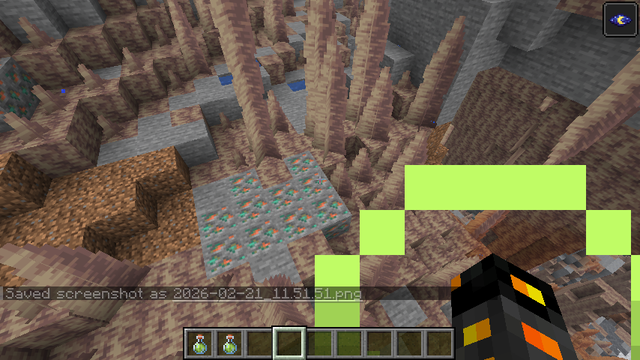copper: (197, 150, 350, 269)
